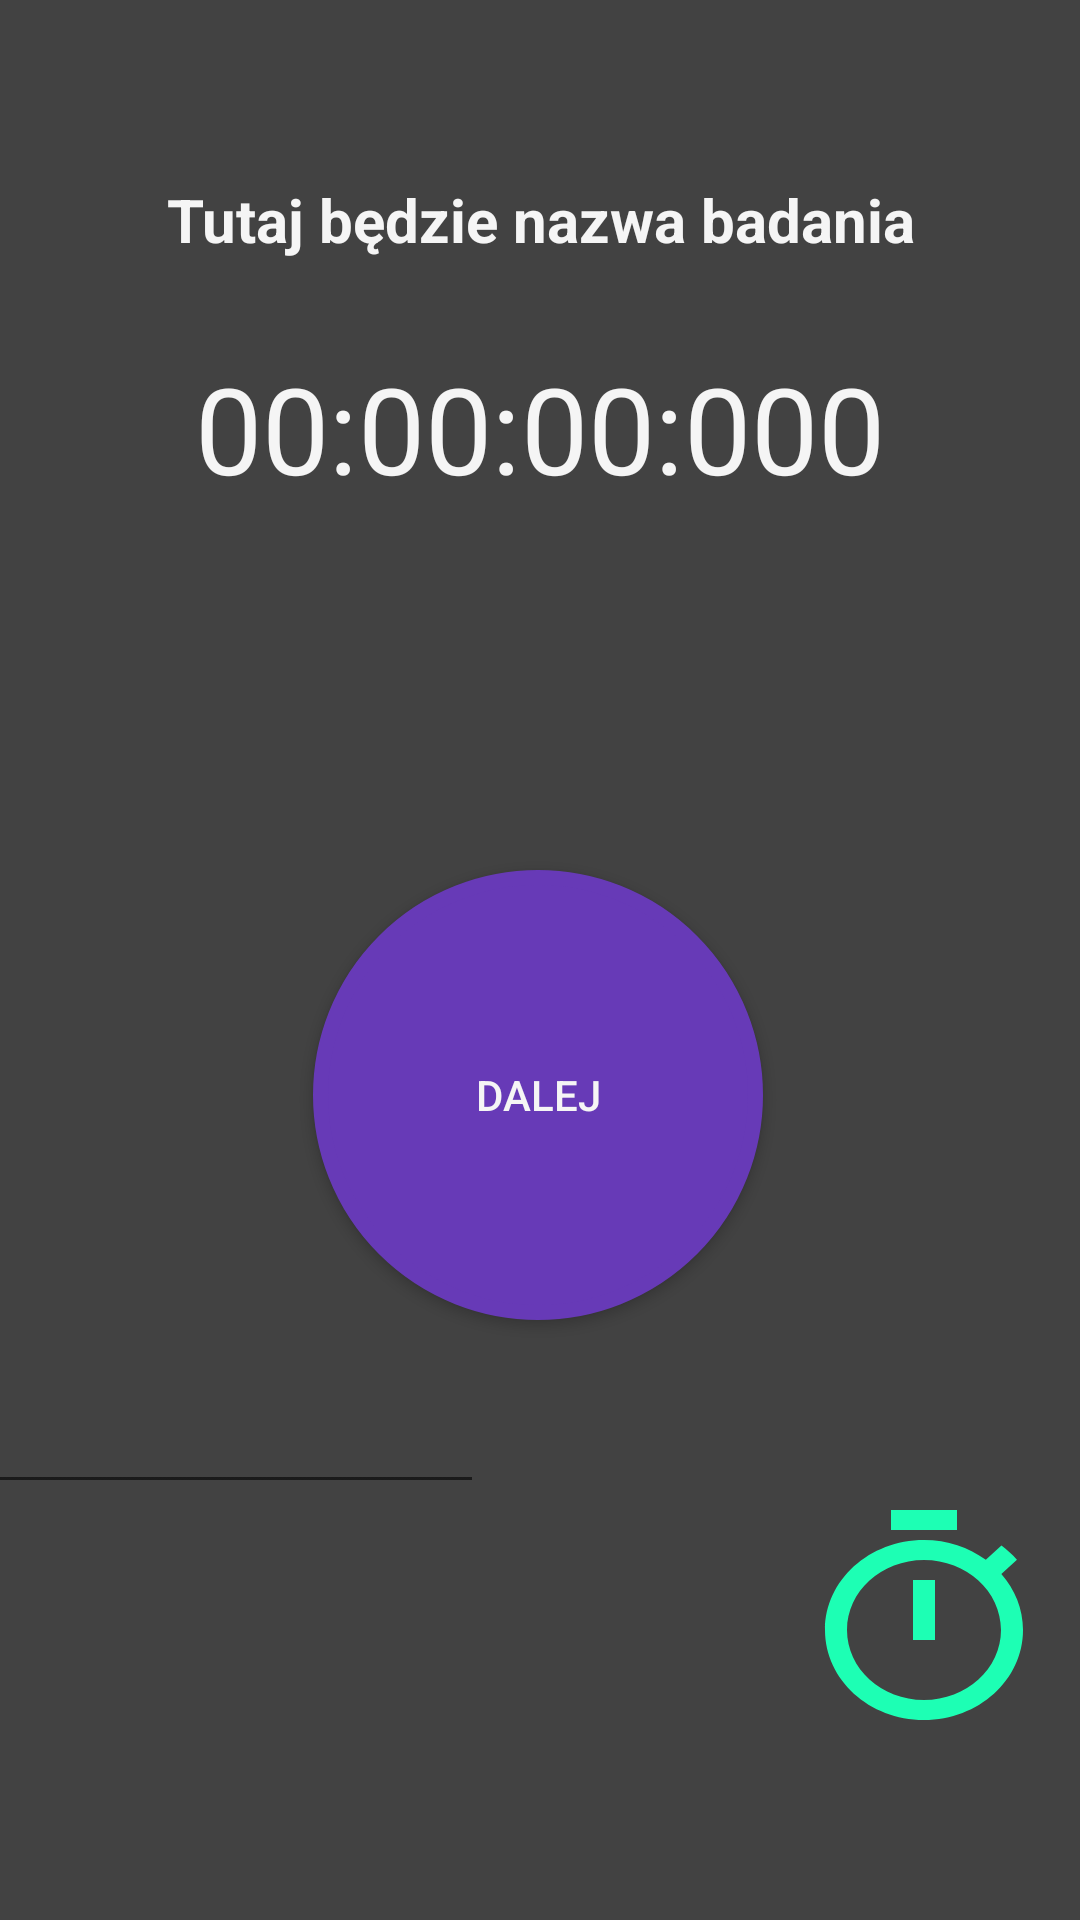

Icons on this 1080px×1920px Android screen, each with the point to tap as (x,y):
timer: (924,1615)
